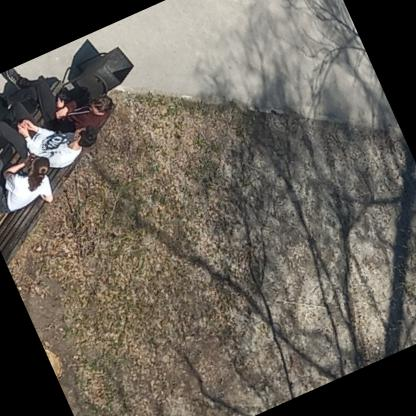Human Body: (0, 35, 129, 181), (0, 36, 119, 162), (0, 75, 100, 200)
